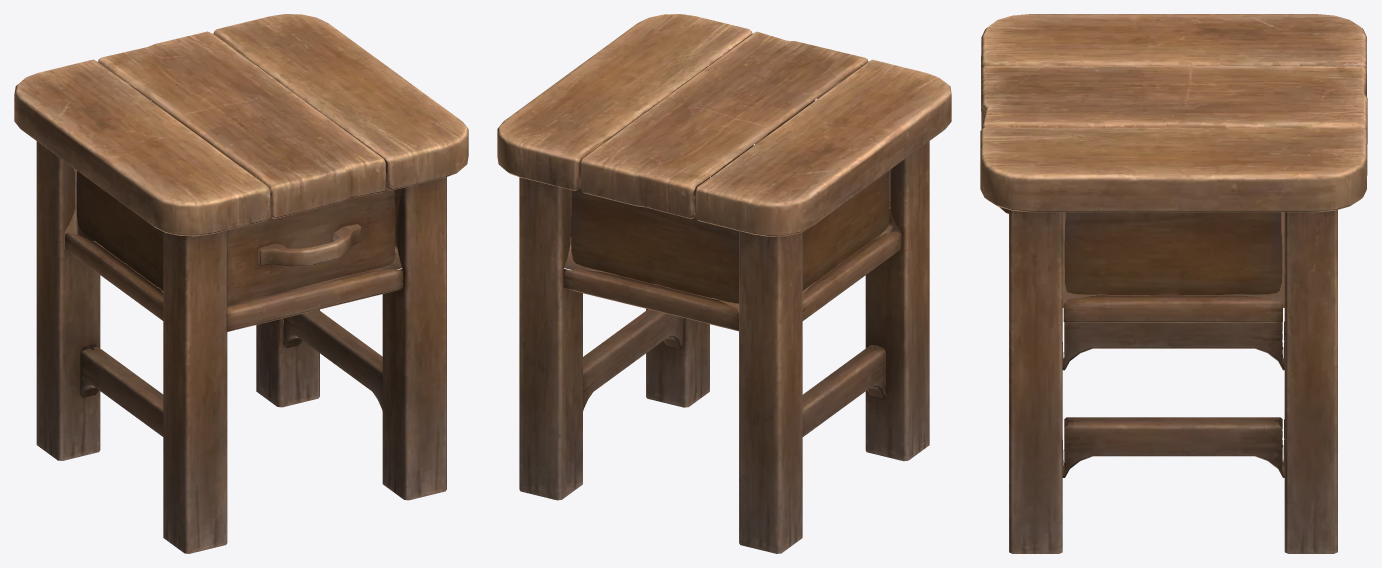
3 views of the same model, side by side, from view 1: azimuth 30°, elevation 25°; view 2: azimuth 150°, elevation 25°; view 3: azimuth 270°, elevation 25° (orthographic). The views are drawn at different scales.
Visible parts, largest first — view 1: SM_Side_table_01v2_LOD0; view 2: SM_Side_table_01v2_LOD0; view 3: SM_Side_table_01v2_LOD0.
Part boxes in pixels (<box>): SM_Side_table_01v2_LOD0: <box>14,14,468,553</box>; SM_Side_table_01v2_LOD0: <box>497,14,951,553</box>; SM_Side_table_01v2_LOD0: <box>980,14,1367,553</box>.
Bounding box in the file's own units: 0.507 × 0.5599 × 0.5047.
1 material, 1 textured.
